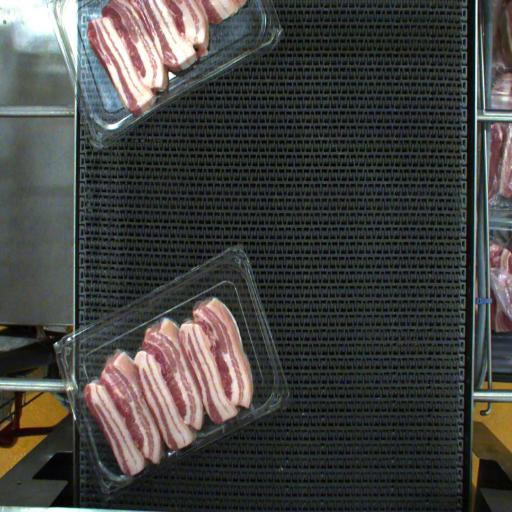packaging-error: (120, 441, 218, 477)
unsealed: (88, 301, 216, 402)
